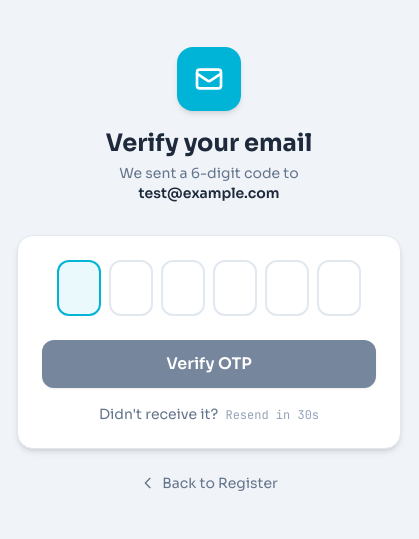
it: OtpVerifyView › verifyOtp failure shows error, clears inputs and focuses first
The image size is (419, 539).
Type "9" into the 1st field at (79, 288), box [57,260,101,316]
Type "9" into the 2nd field at (131, 288), box [109,260,153,316]
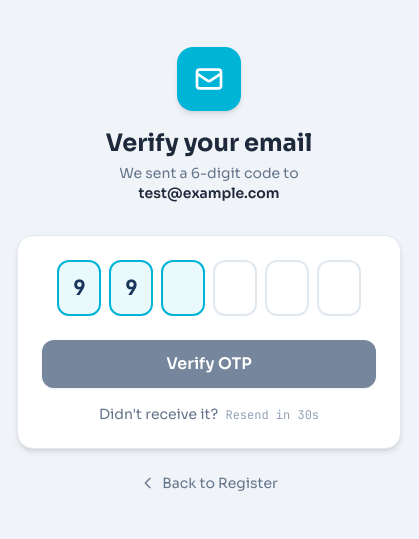
Type "9" into the 3rd field at (183, 288), box [161,260,205,316]
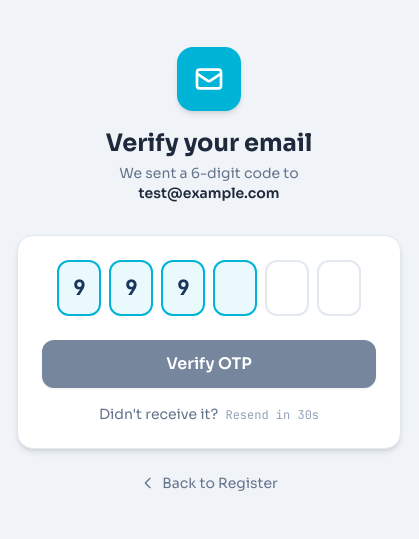
Type "9" into the 4th field at (235, 288), box [213,260,257,316]
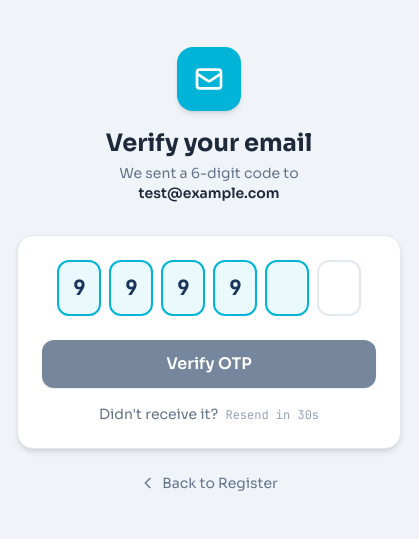
Type "9" into the 5th field at (287, 288), box [265,260,309,316]
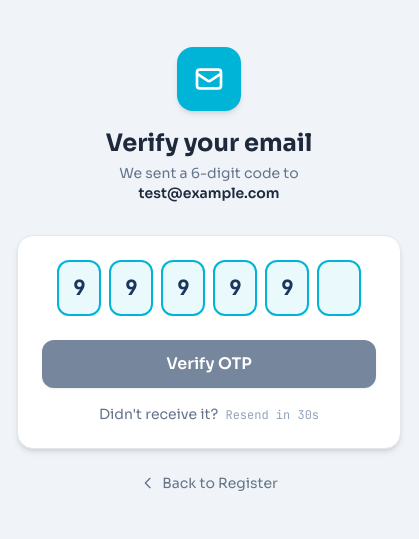
Type "9" into the 6th field at (339, 288), box [317,260,361,316]
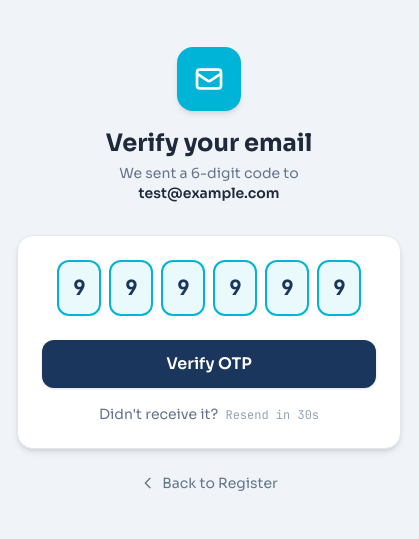
Click the button "Verify OTP" at (209, 364), box [42,340,376,388]
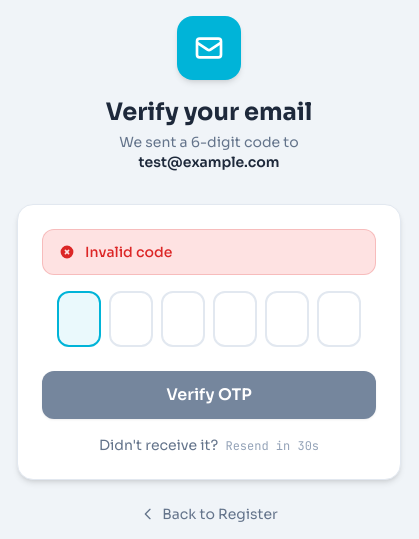
Now the text "Invalid code" is shown, box [85,242,172,262]
